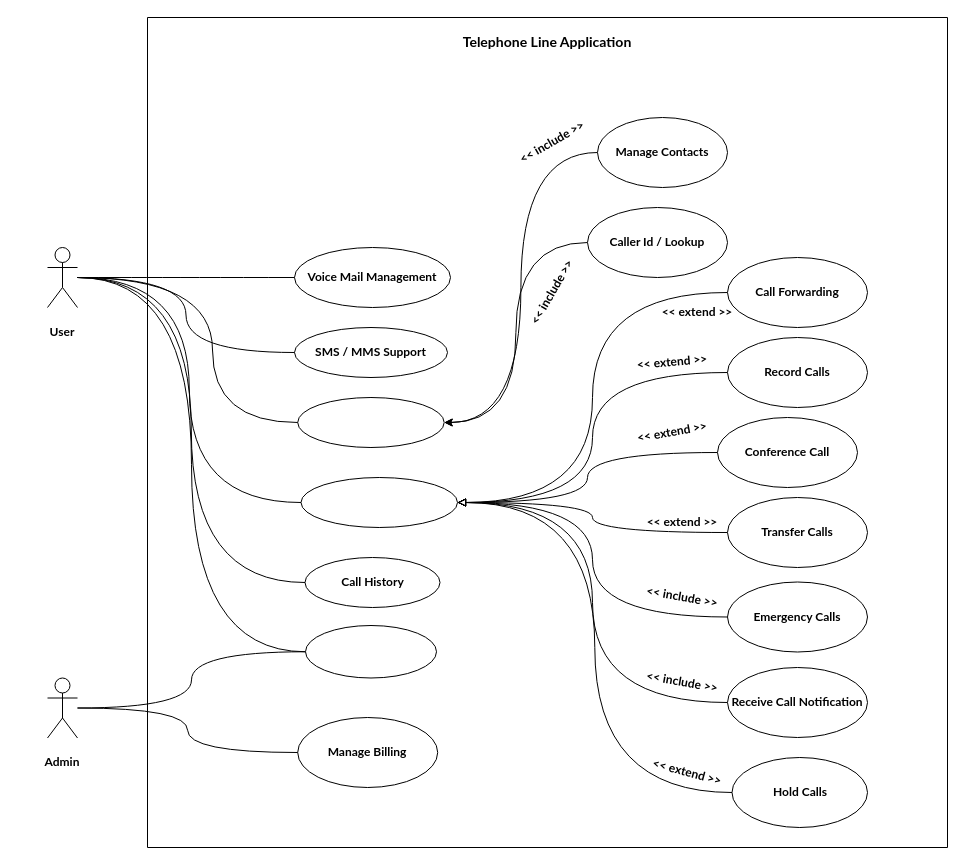
Image size: 965x865. Some labels were removed from this diagram. The shapes that lost their labels are listed below. From the top down, each one's centre as x and y in pixels, then its label:
the point at 370,422: Register / Login
the point at 379,502: Make / Receive Call
the point at 370,651: Block Calls
